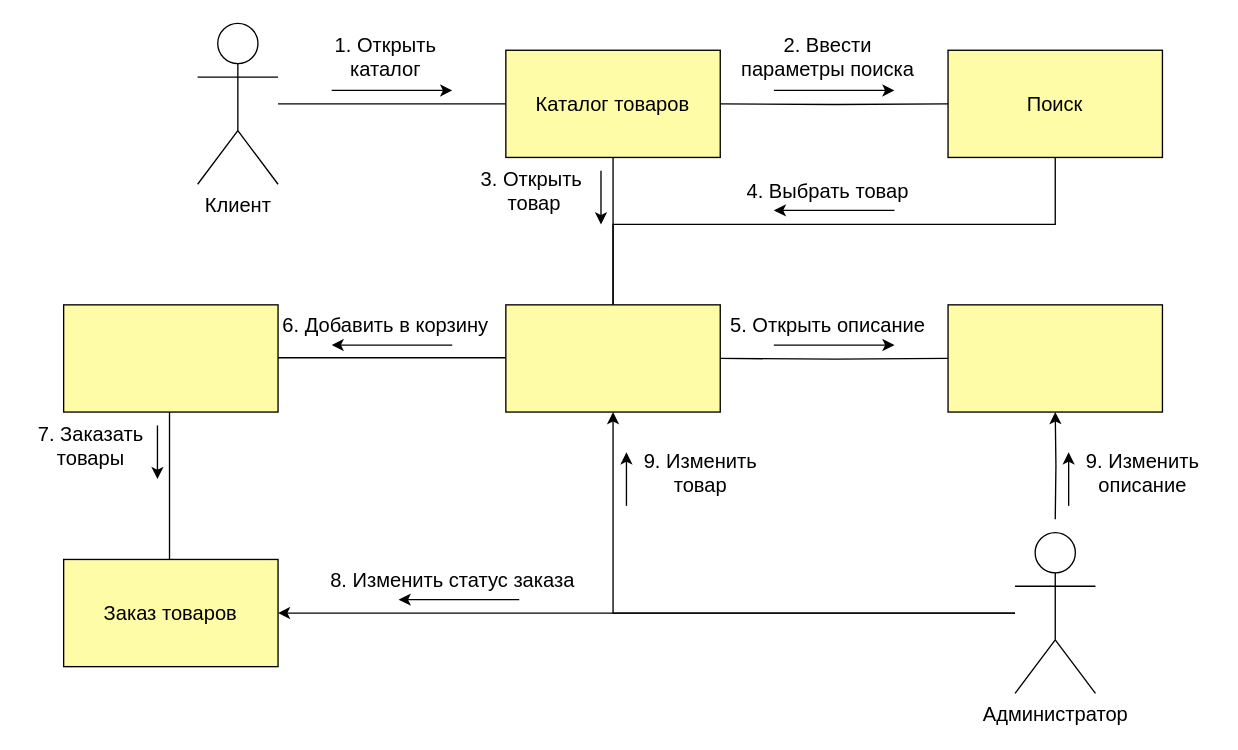
Some shapes in this 1238 by 750 pixel diagram are drawn without their labels. Each missing label, with the box of its shape:
Корзина: (62, 304, 278, 412)
Описание товара: (947, 304, 1162, 412)
Товар: (505, 304, 720, 412)
